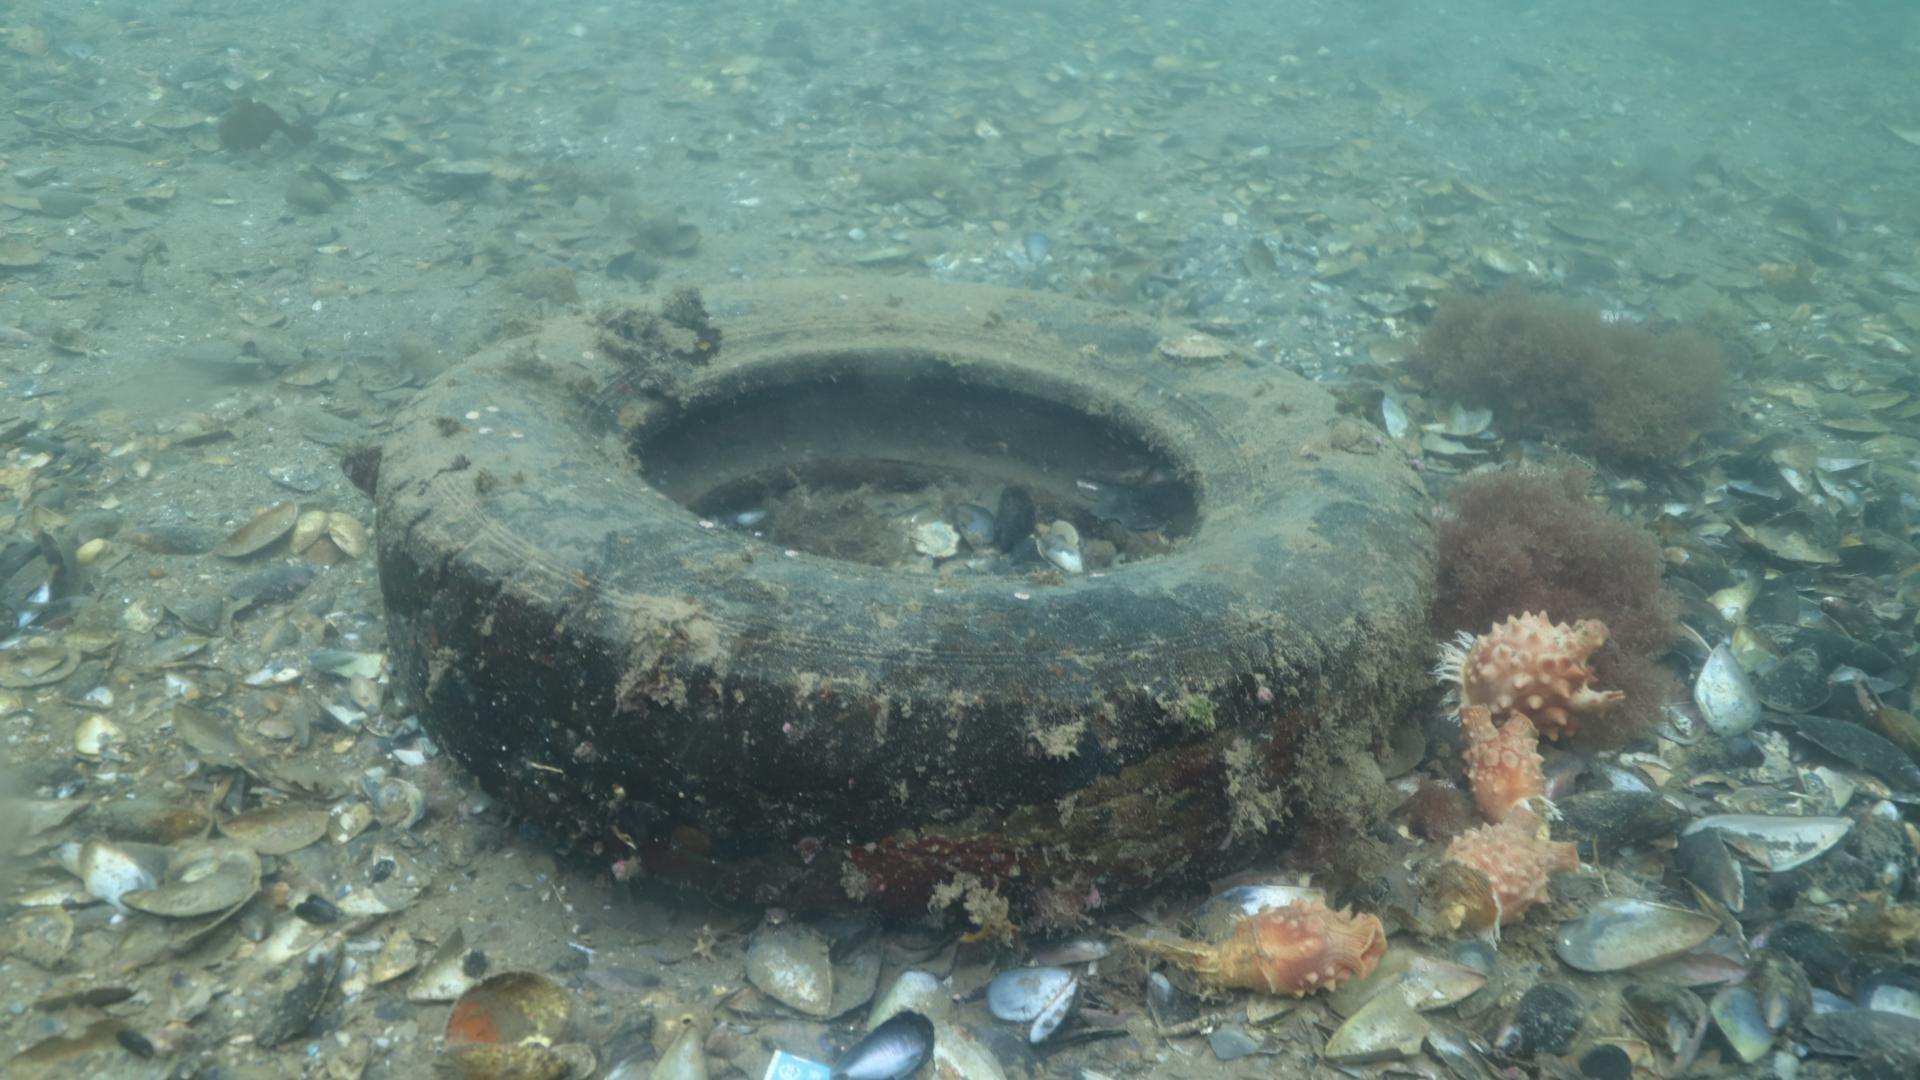tire: (389, 282, 1431, 934)
